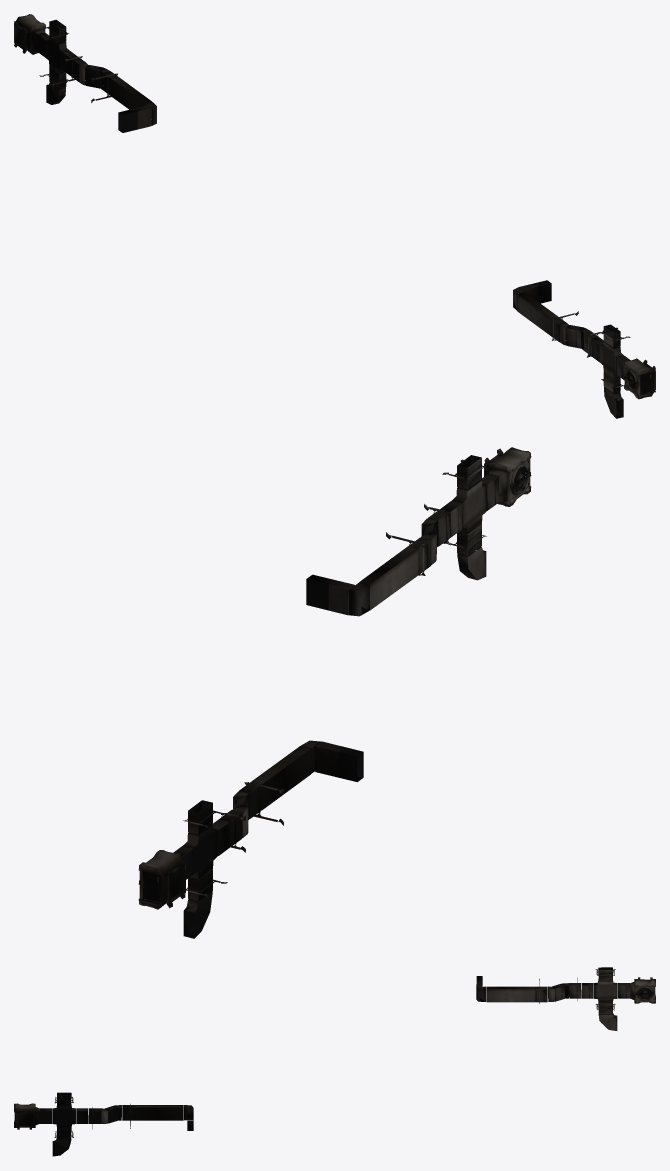
3 renders of one model, top to bottom at view 1: azimuth 30°, elevation 25°; view 2: azimuth 150°, elevation 25°; view 3: azimuth 270°, elevation 25°, orthographic. The views are drawn at different scales.
Visible parts, largest first — view 1: Prefab_Vent_010; view 2: Prefab_Vent_010; view 3: Prefab_Vent_010.
Boxes of the visible parts, x1,y1,x2,y2 form: Prefab_Vent_010: (14, 14, 655, 418); Prefab_Vent_010: (138, 447, 531, 938); Prefab_Vent_010: (14, 967, 655, 1156).
Bounding box in the file's own units: 9.22 × 6.22 × 30.13.
1 material, 1 textured.
